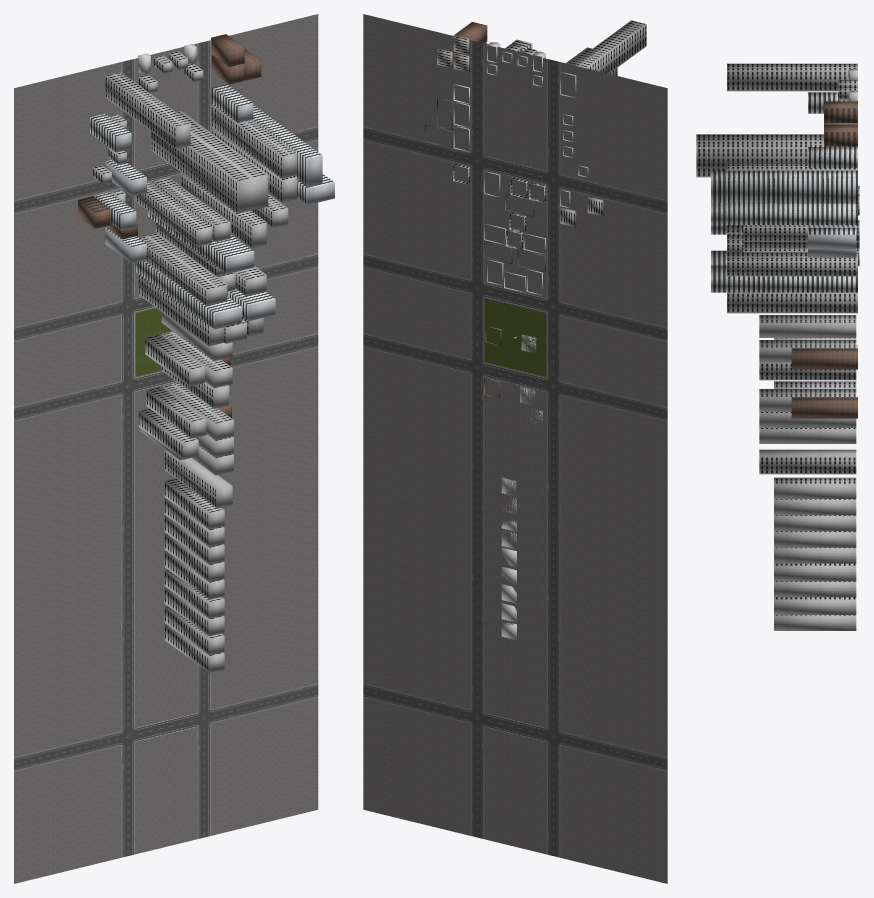
The model's file is stage-2-0.fbx.
3 renders of one model, left to right at view 1: azimuth 30°, elevation 25°; view 2: azimuth 150°, elevation 25°; view 3: azimuth 270°, elevation 25°, orthographic. The views are drawn at different scales.
Parts seen in each view (by area): view 1: Ground; view 2: Ground; view 3: Ground.
Boxes of the visible parts, bbox=[...] form: Ground: bbox=[14, 14, 334, 883]; Ground: bbox=[363, 14, 667, 883]; Ground: bbox=[696, 63, 859, 630].
Size of the model in its own units: 200 by 501 by 101.
26 materials, 24 textured.
